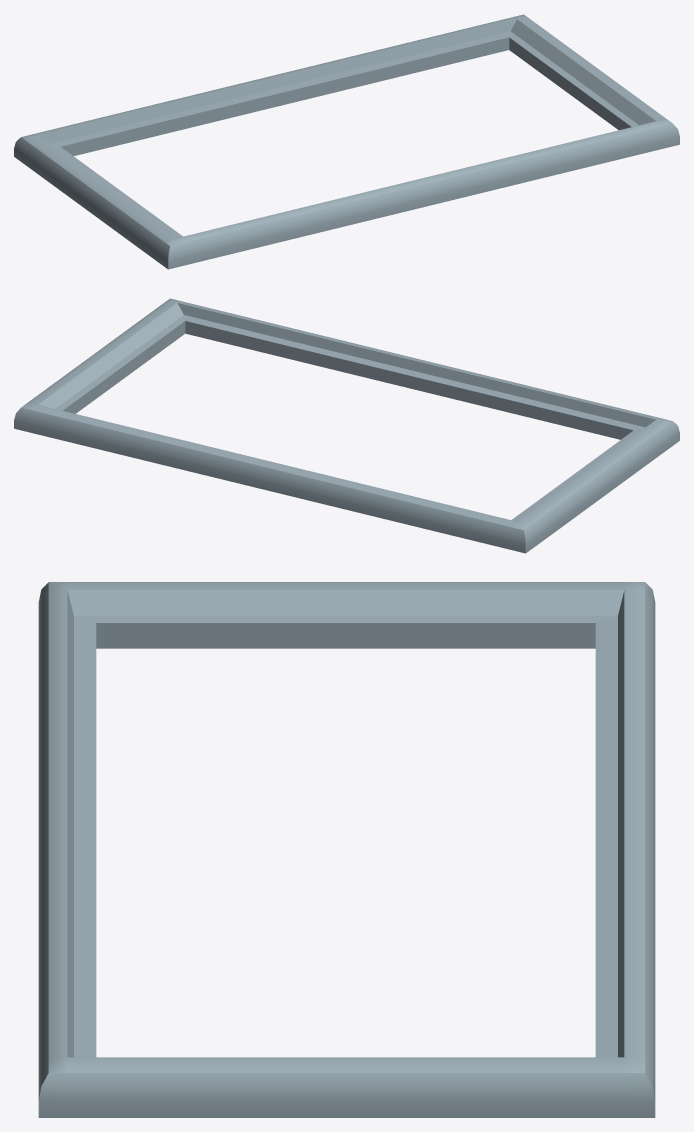
File: Refrigerator_2.fbx
3 views of the same model, one above another, from view 1: azimuth 30°, elevation 25°; view 2: azimuth 150°, elevation 25°; view 3: azimuth 270°, elevation 25° (orthographic). The views are drawn at different scales.
Visible parts, largest first — view 1: pCube4; view 2: pCube4; view 3: pCube4.
Boxes of the visible parts, bbox=[...] form: pCube4: bbox=[14, 14, 679, 269]; pCube4: bbox=[14, 298, 679, 553]; pCube4: bbox=[38, 582, 655, 1117].
Size of the model in its own units: 22.01 by 0.9145 by 11.49.
1 material, 1 textured.
